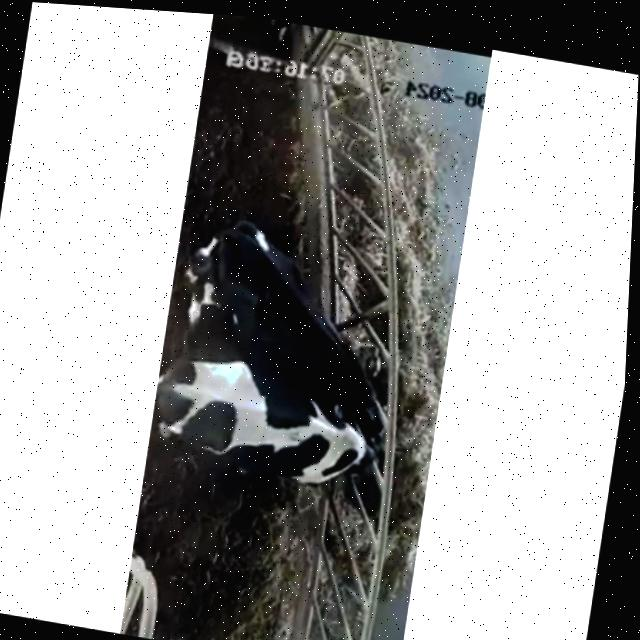eat: (259, 400, 428, 510), (281, 352, 429, 447)
